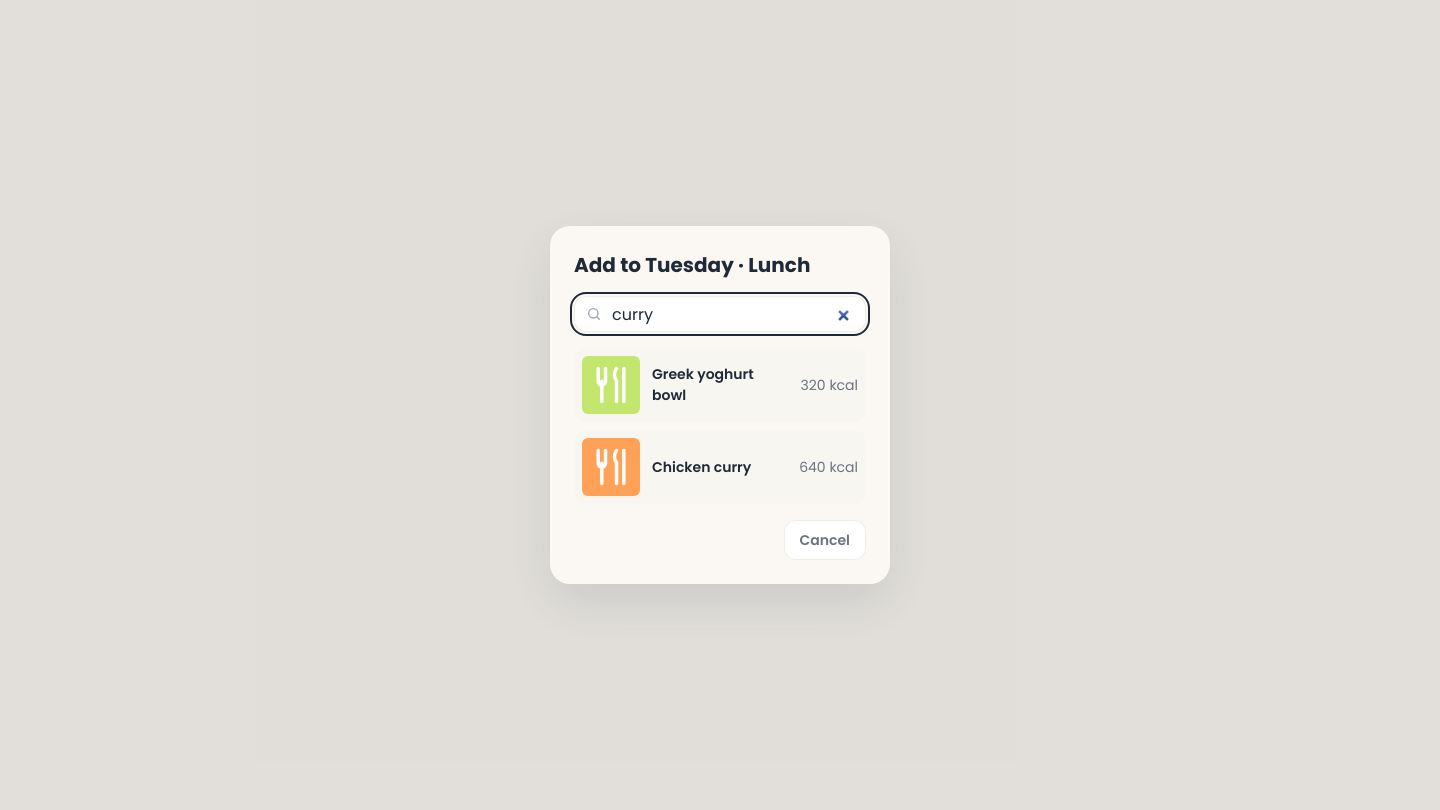
it: RecipePicker › goes back to the list from the servings step
Click the button "Chicken curry 640 kcal". click: (720, 467)
box: [574, 430, 866, 504]
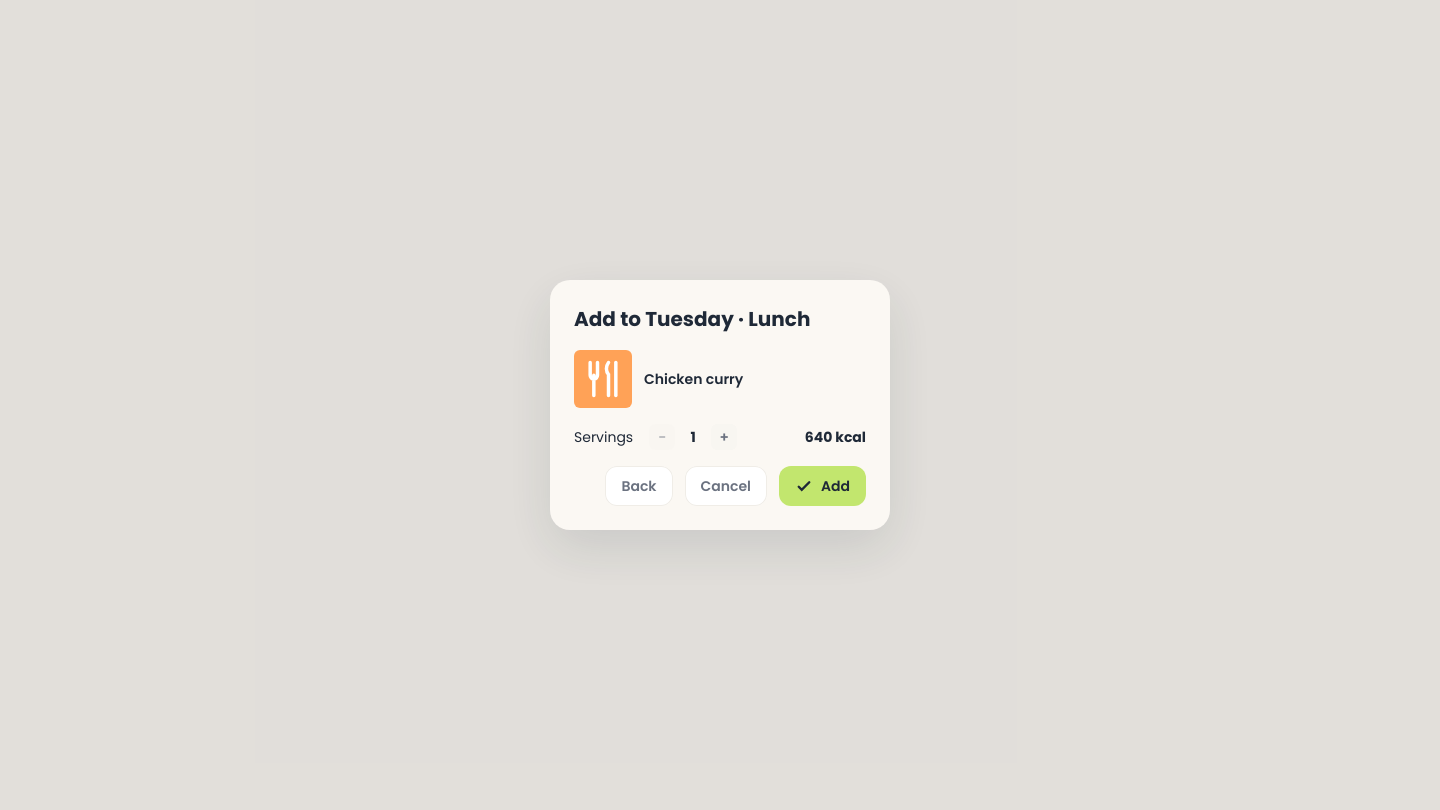
Click the button "Back". click: (639, 486)
box: [605, 466, 672, 506]
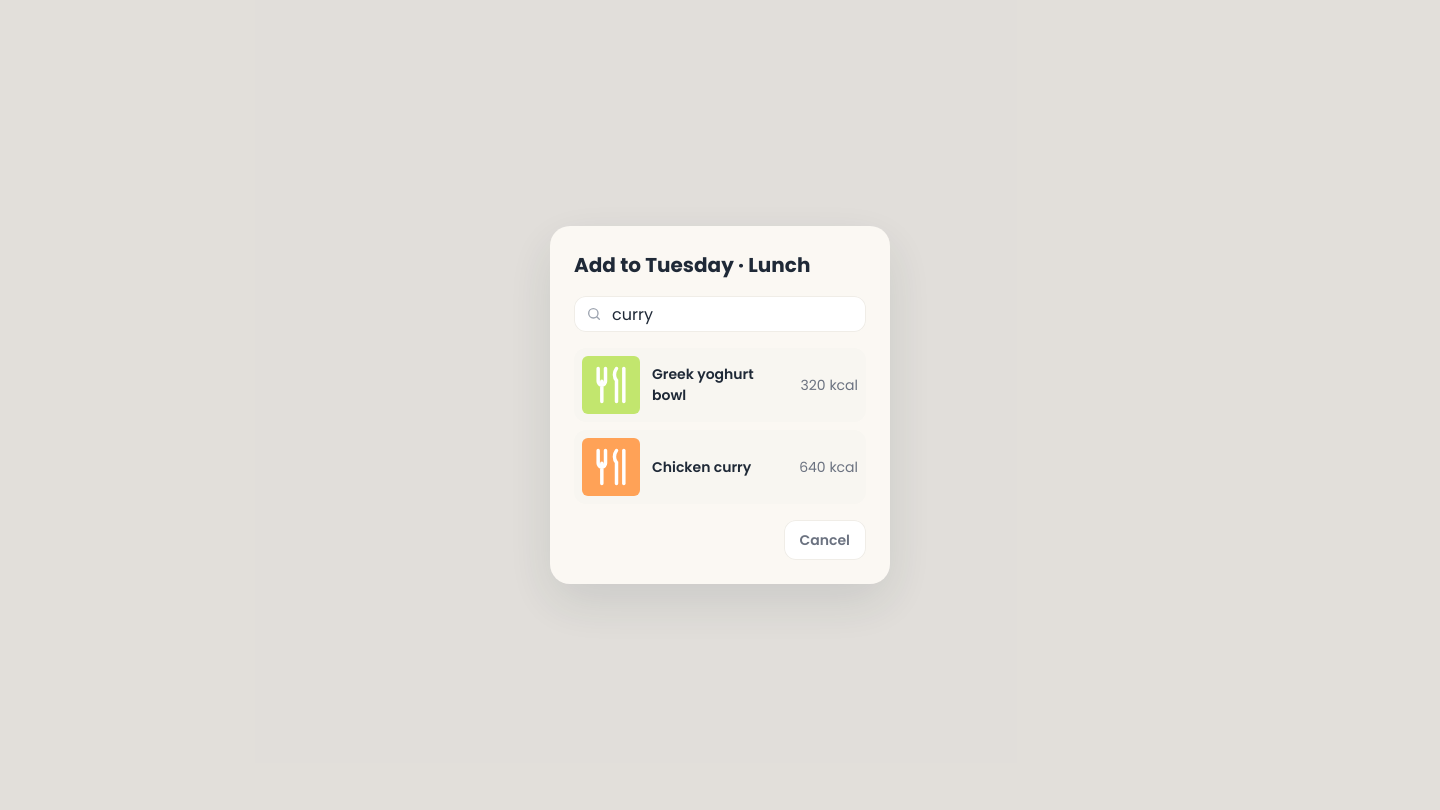
Expected: the search field holds "curry", [610, 300, 854, 328]
